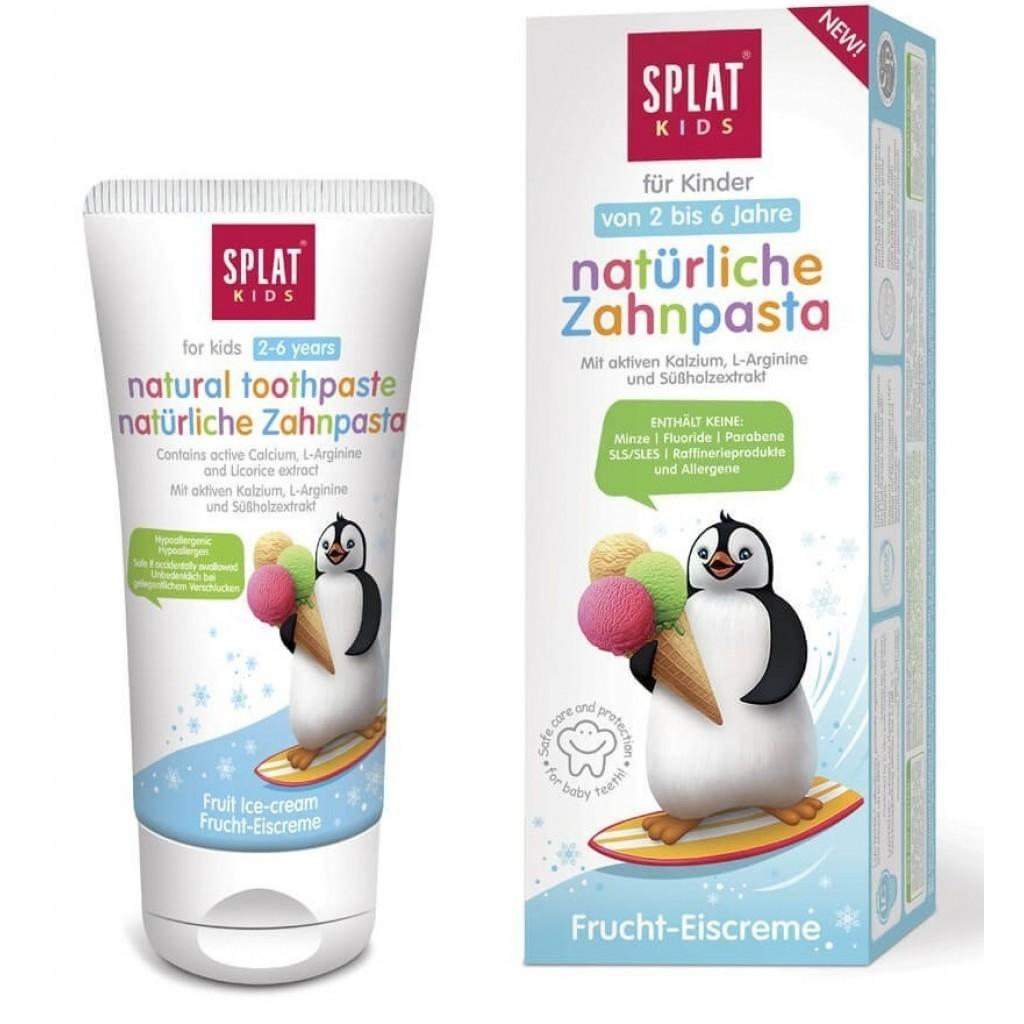toothpaste: (71, 146, 443, 994)
